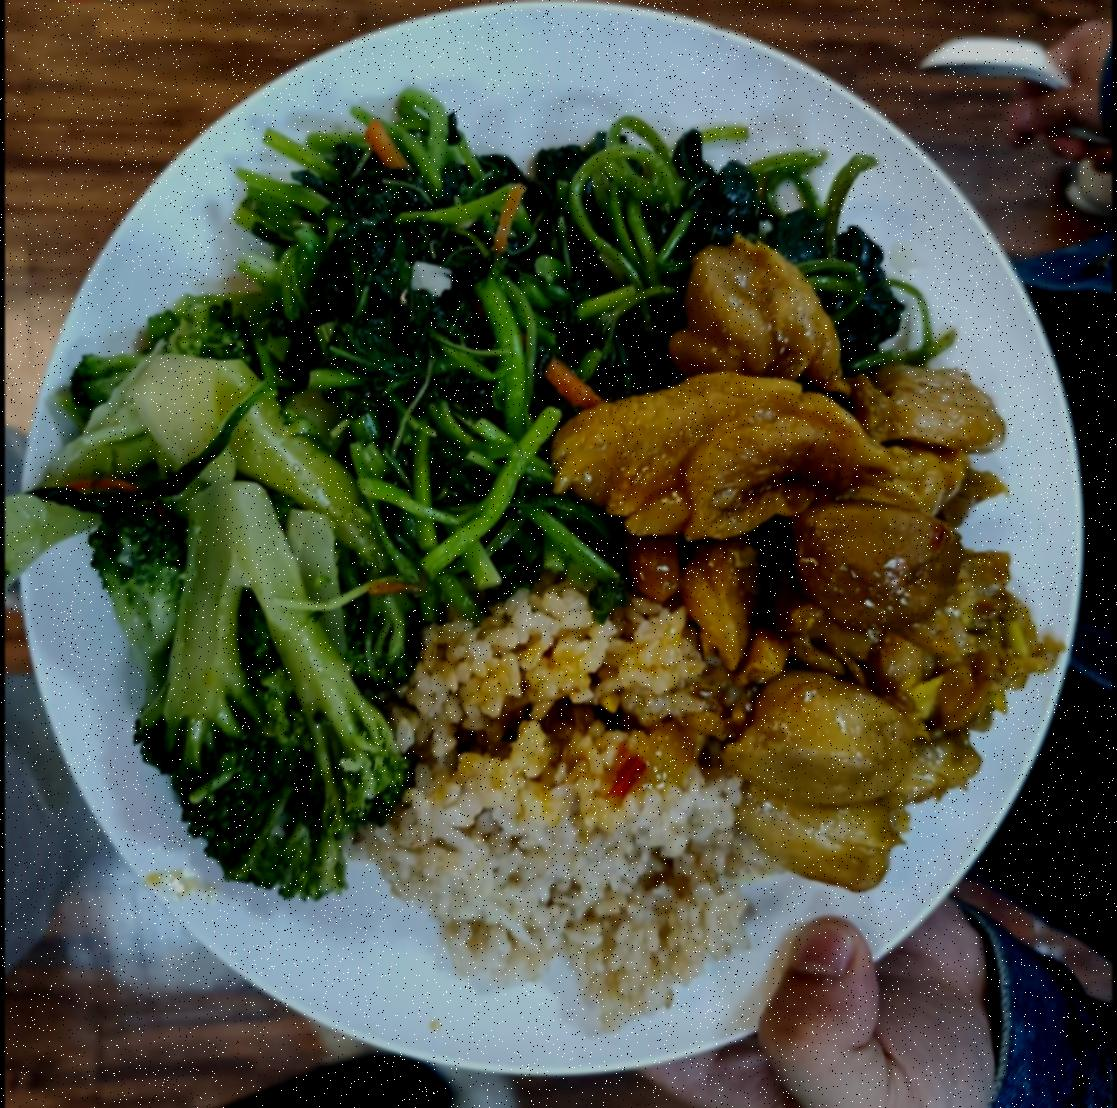brown rice: (395, 603, 752, 981)
curry chicken: (595, 319, 1028, 856)
plate: (24, 11, 1090, 1087)
side dish: (67, 337, 420, 891), (328, 114, 537, 572), (542, 163, 882, 374)
